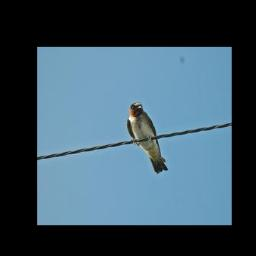Swallow: (127, 100, 170, 174)
